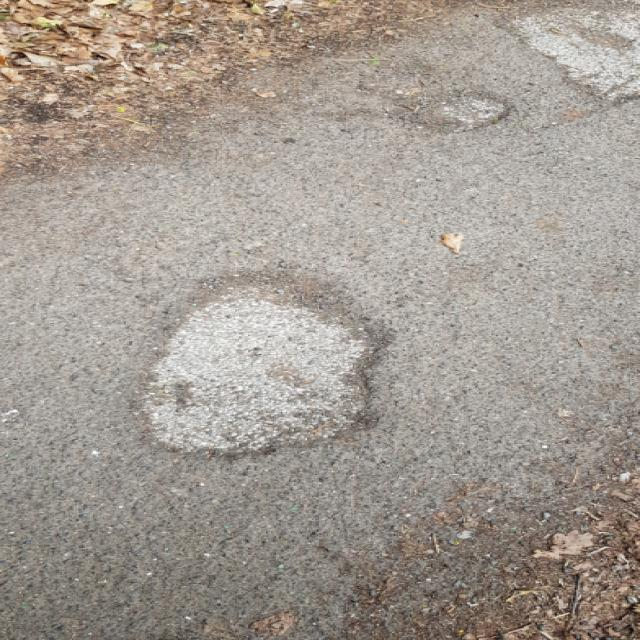pothole: (130, 262, 402, 455), (493, 0, 640, 107), (400, 88, 518, 134)
